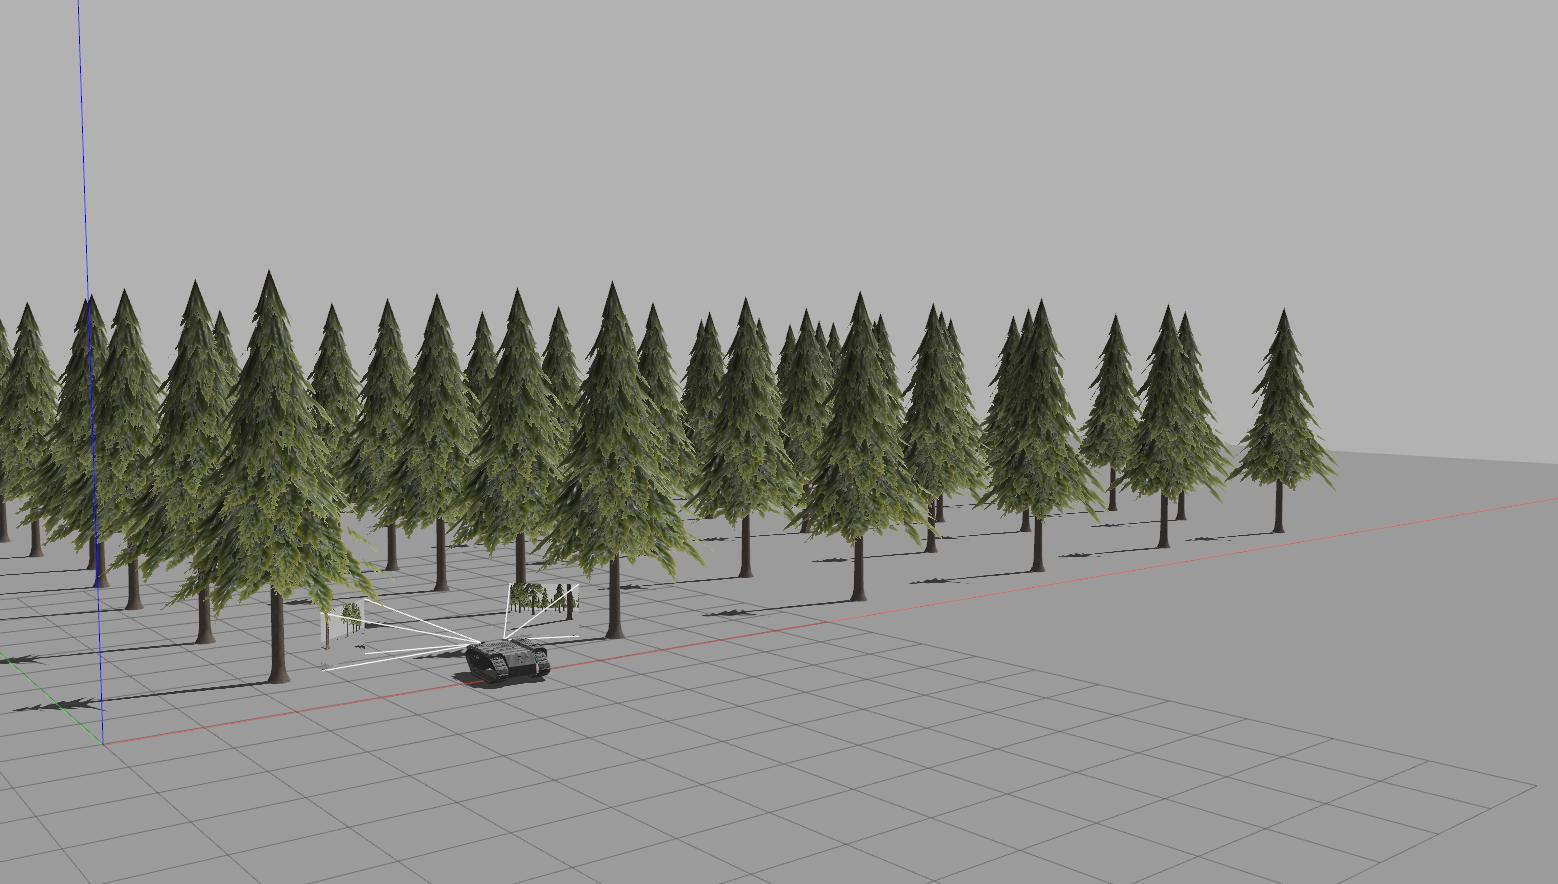tree_gazebo: (183, 274, 375, 685), (541, 286, 700, 638), (797, 295, 925, 601), (125, 283, 241, 574), (980, 301, 1099, 570), (691, 301, 797, 577), (383, 295, 477, 593), (1122, 310, 1229, 546), (1229, 314, 1335, 531), (28, 299, 107, 552), (904, 307, 986, 552), (343, 301, 411, 570), (94, 292, 158, 537), (1081, 317, 1139, 509), (0, 304, 55, 496), (310, 307, 360, 464), (192, 584, 216, 645), (30, 515, 43, 555)
